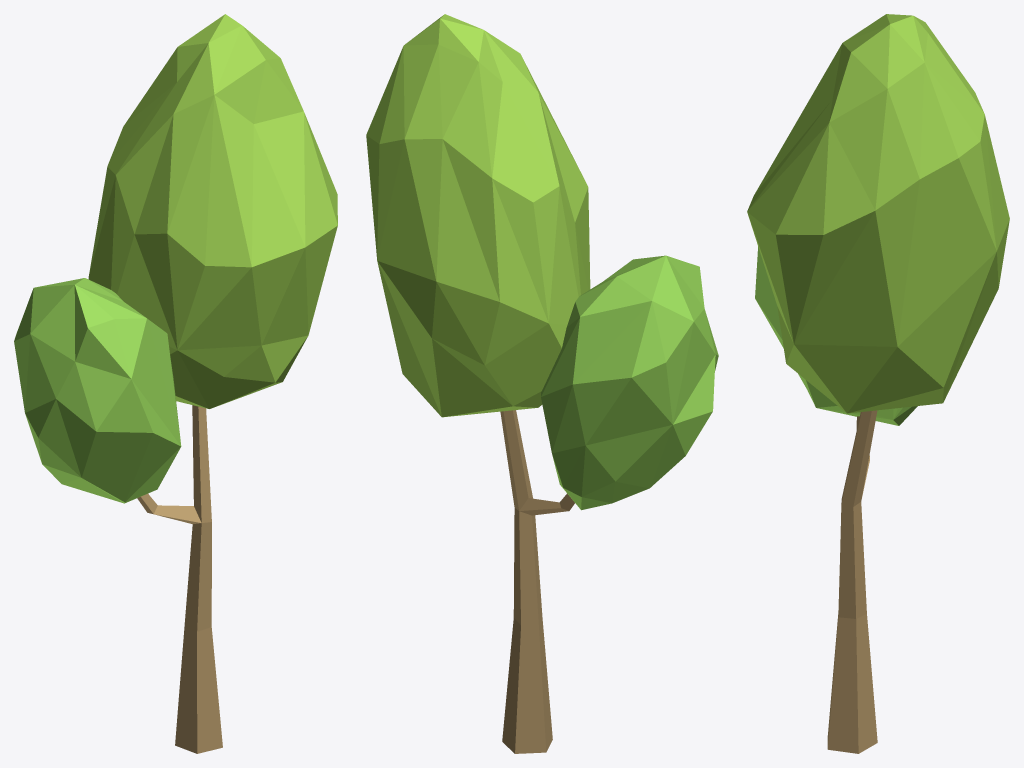
The model's file is Random_Tree_m_04.fbx.
The picture shows the model from 3 angles, left to right: view 1: azimuth 30°, elevation 25°; view 2: azimuth 150°, elevation 25°; view 3: azimuth 270°, elevation 25°; orthographic projection. The views are drawn at different scales.
Parts seen in each view (by area): view 1: Random_Tree_m_04; view 2: Random_Tree_m_04; view 3: Random_Tree_m_04.
Part boxes in pixels (box(x1,y1,x2,y2)): Random_Tree_m_04: box(14, 14, 337, 753); Random_Tree_m_04: box(366, 14, 718, 753); Random_Tree_m_04: box(747, 14, 1009, 753).
Size of the model in its own units: 485 by 1089 by 343.
